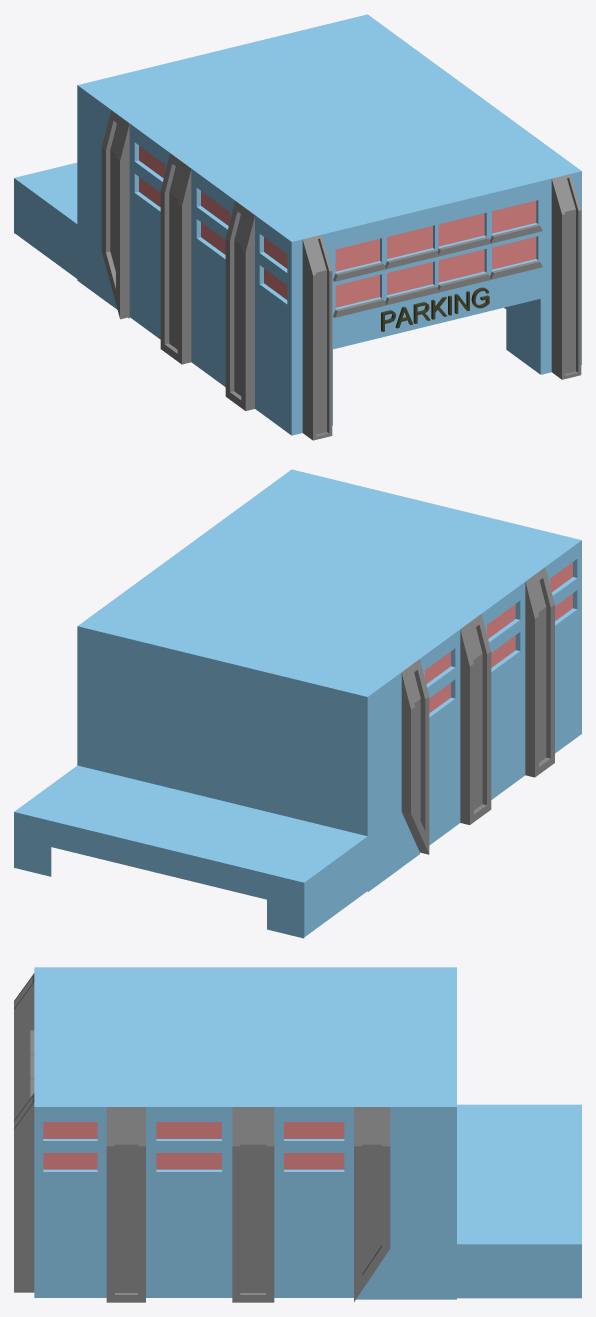
The model's file is Exterior.FBX.
The picture shows the model from 3 angles, top to bottom: view 1: azimuth 30°, elevation 25°; view 2: azimuth 150°, elevation 25°; view 3: azimuth 270°, elevation 25°; orthographic projection.
Visible parts, largest first — view 1: Object001; view 2: Object001; view 3: Object001.
Boxes of the visible parts, x1,y1,x2,y2 form: Object001: [14, 14, 581, 440]; Object001: [14, 469, 581, 938]; Object001: [14, 967, 581, 1302].
Size of the model in its own units: 0.2148 by 0.3466 by 0.1297.
